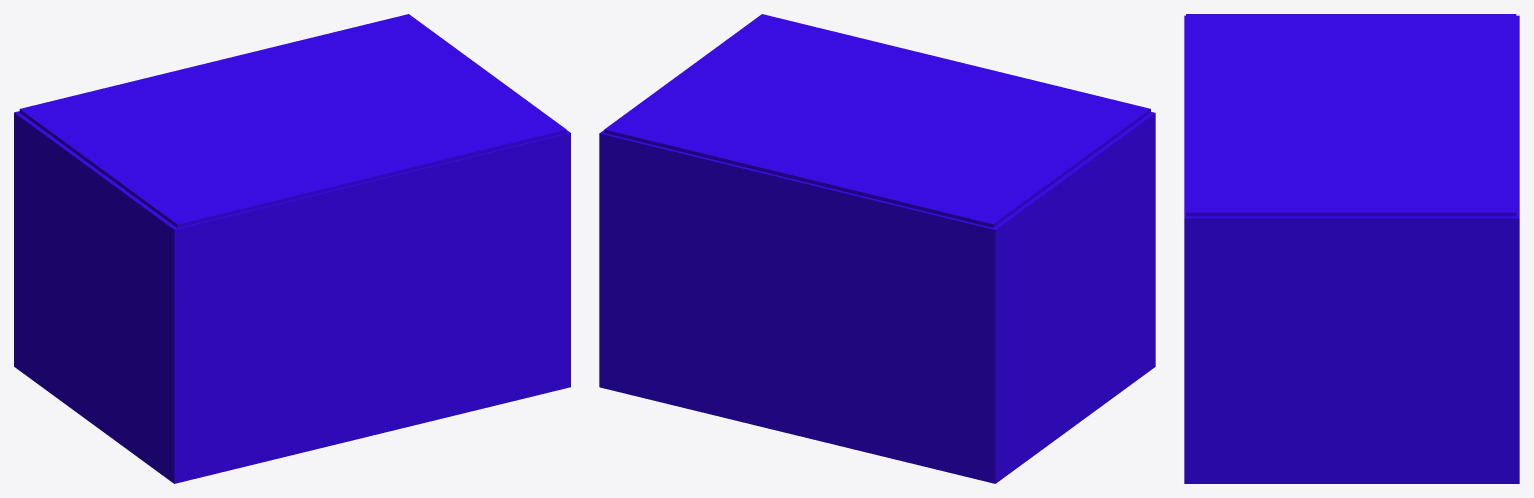
Rendered from office_pack_cardboardBox_big_open_1_meshCollider.fbx.
The picture shows the model from 3 angles, left to right: view 1: azimuth 30°, elevation 25°; view 2: azimuth 150°, elevation 25°; view 3: azimuth 270°, elevation 25°; orthographic projection. The views are drawn at different scales.
Parts seen in each view (by area): view 1: office_pack_cardboardBox_big_open_1_meshCollider, office_pack_cardboardBox_big_open_1_hatch_2_meshCollider, office_pack_cardboardBox_big_open_1_hatch_1_meshCollider; view 2: office_pack_cardboardBox_big_open_1_meshCollider, office_pack_cardboardBox_big_open_1_hatch_1_meshCollider, office_pack_cardboardBox_big_open_1_hatch_2_meshCollider; view 3: office_pack_cardboardBox_big_open_1_meshCollider, office_pack_cardboardBox_big_open_1_hatch_1_meshCollider, office_pack_cardboardBox_big_open_1_hatch_2_meshCollider.
Boxes of the visible parts, left/top/right/bottom form: office_pack_cardboardBox_big_open_1_meshCollider: left=14, top=111, right=570, bottom=483; office_pack_cardboardBox_big_open_1_hatch_2_meshCollider: left=98, top=72, right=566, bottom=227; office_pack_cardboardBox_big_open_1_hatch_1_meshCollider: left=19, top=14, right=487, bottom=169; office_pack_cardboardBox_big_open_1_meshCollider: left=599, top=112, right=1155, bottom=483; office_pack_cardboardBox_big_open_1_hatch_1_meshCollider: left=604, top=71, right=1071, bottom=227; office_pack_cardboardBox_big_open_1_hatch_2_meshCollider: left=683, top=14, right=1150, bottom=169; office_pack_cardboardBox_big_open_1_meshCollider: left=1184, top=15, right=1519, bottom=483; office_pack_cardboardBox_big_open_1_hatch_1_meshCollider: left=1351, top=14, right=1516, bottom=216; office_pack_cardboardBox_big_open_1_hatch_2_meshCollider: left=1186, top=14, right=1350, bottom=216.
Size of the model in its own units: 50 by 31.06 by 35.
